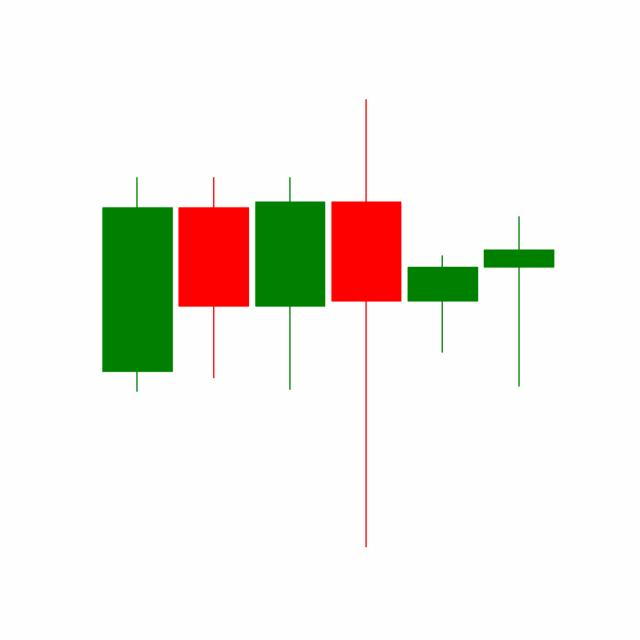Dragonfly Doji: (403, 253, 481, 353)
